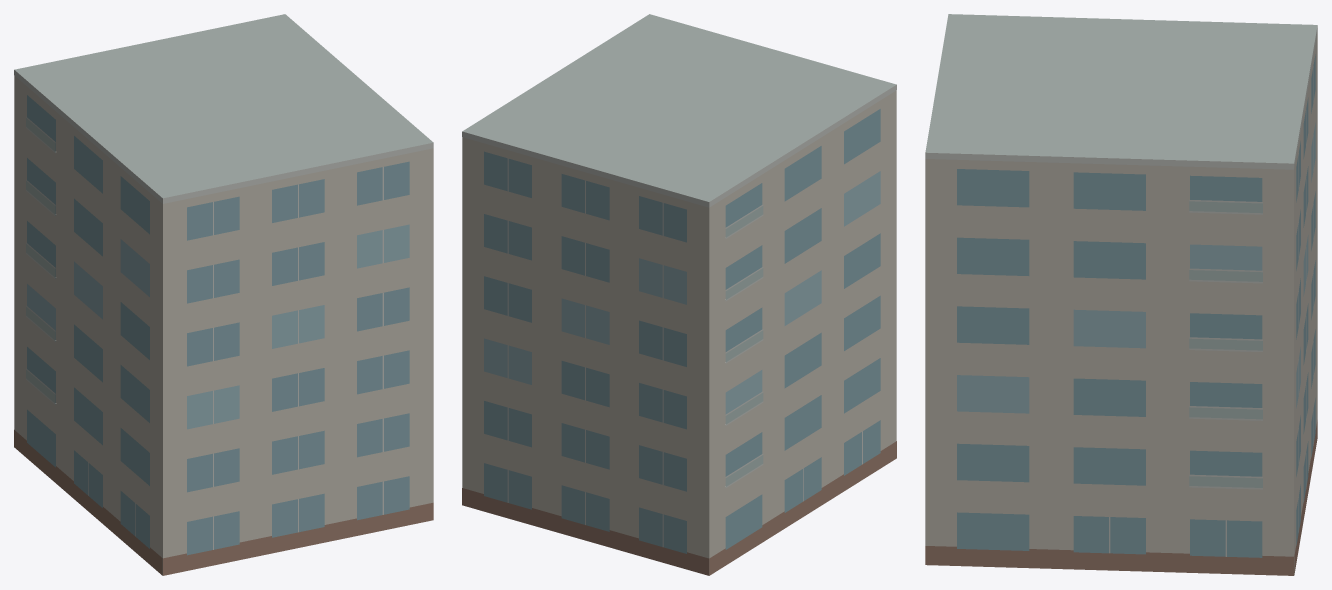
The model's file is survey-upis-32869557.glb.
3 renders of one model, left to right at view 1: azimuth 30°, elevation 25°; view 2: azimuth 150°, elevation 25°; view 3: azimuth 270°, elevation 25°, orthographic. The views are drawn at different scales.
Visible parts, largest first — view 1: survey-upis-32869557.tmp; view 2: survey-upis-32869557.tmp; view 3: survey-upis-32869557.tmp.
Boxes of the visible parts, box(x1,y1,x2,y2) form: survey-upis-32869557.tmp: box(14, 14, 433, 575); survey-upis-32869557.tmp: box(462, 14, 896, 575); survey-upis-32869557.tmp: box(925, 14, 1317, 575).
Bounding box in the file's own units: 12.77 × 16.4 × 14.15.
